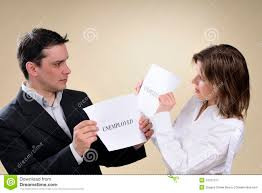person: (171, 34, 253, 154), (6, 23, 89, 126)
